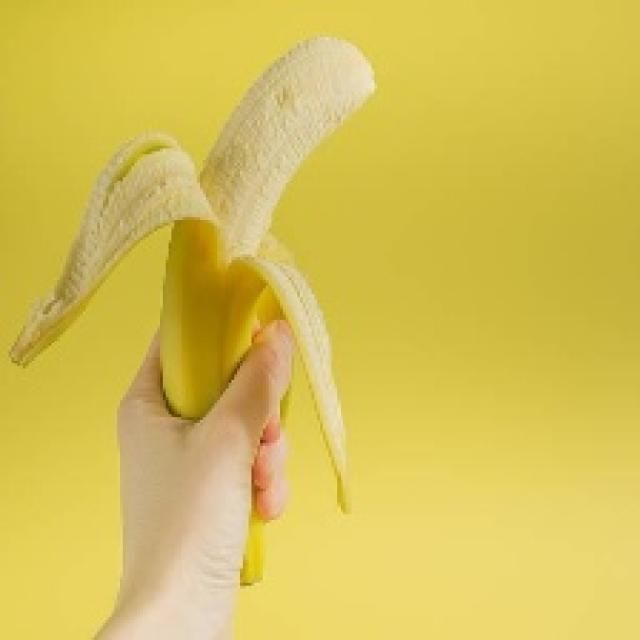Banana: (6, 31, 374, 583)
